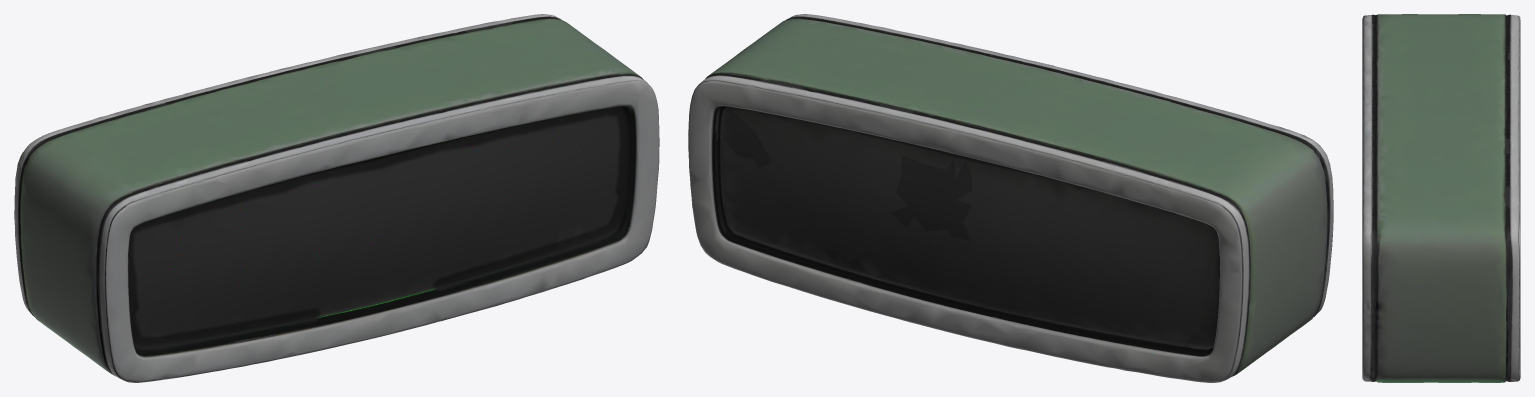
3 renders of one model, left to right at view 1: azimuth 30°, elevation 25°; view 2: azimuth 150°, elevation 25°; view 3: azimuth 270°, elevation 25°, orthographic. The views are drawn at different scales.
Parts seen in each view (by area): view 1: Mesh_0.004; view 2: Mesh_0.004; view 3: Mesh_0.004.
Boxes of the visible parts, x1,y1,x2,y2 form: Mesh_0.004: [14, 14, 659, 382]; Mesh_0.004: [688, 14, 1333, 382]; Mesh_0.004: [1362, 14, 1520, 382].
Size of the model in its own units: 0.4724 by 0.1683 by 0.1351.
1 material, 1 textured.
